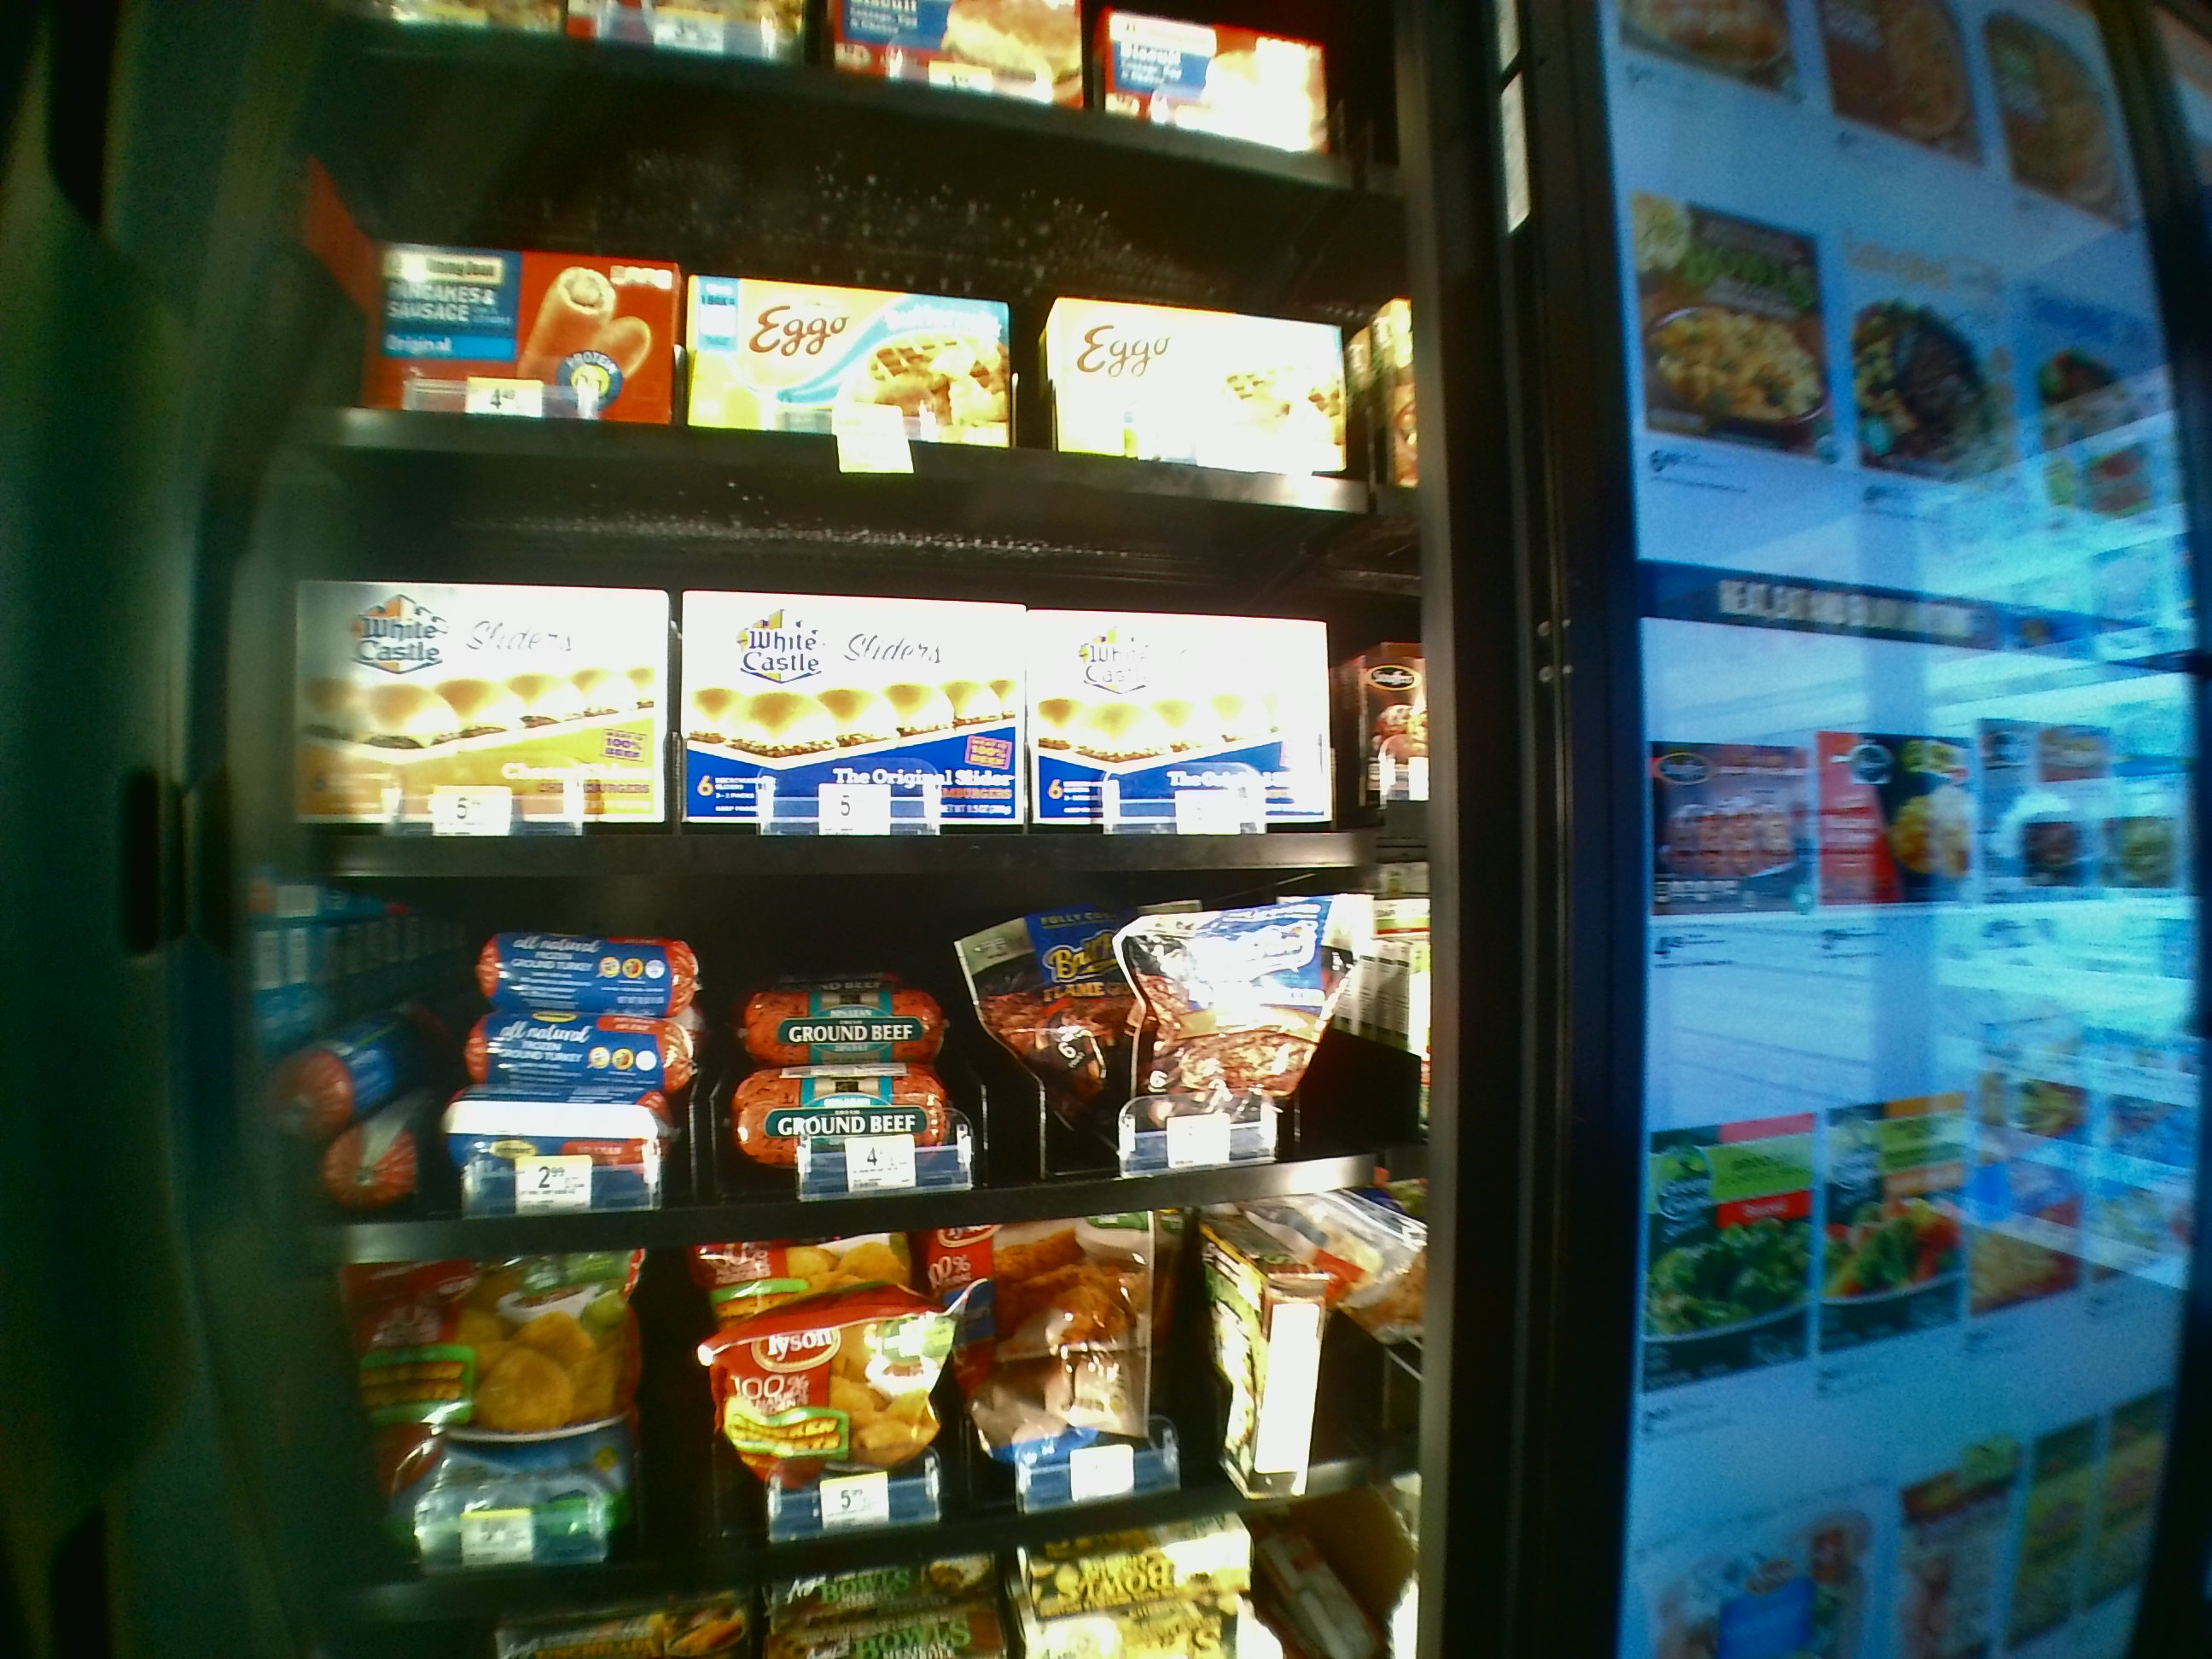shelf: (275, 441, 1411, 877), (275, 892, 1418, 1265)
